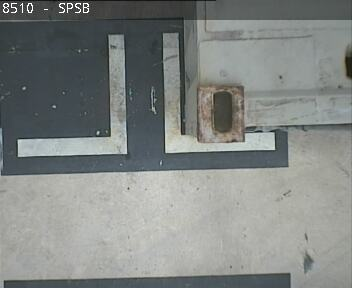groundmarker_1: (16, 31, 276, 156)
